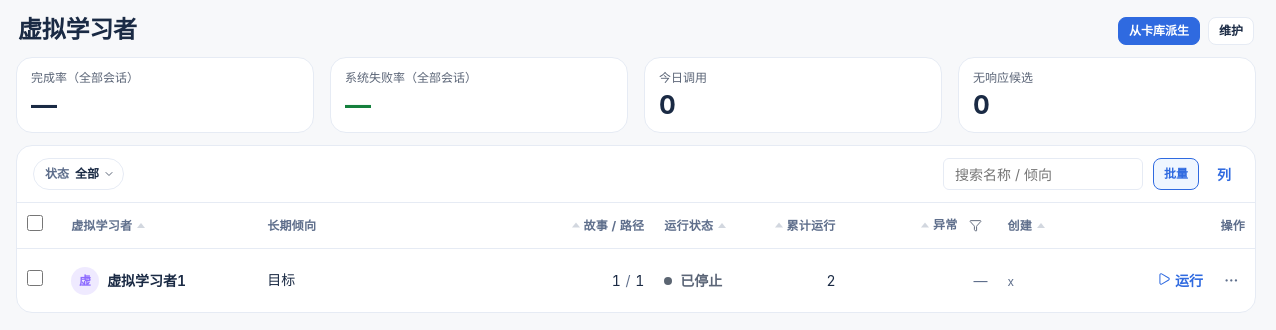
Test: VirtualLearners 批量管理与生命周期视图 › 容量与实验环境不再占版面：只在维护菜单里，默认不渲染
This screenshot has width=1276, height=330.
Expected: the text "容量与实验环境" is not shown
Click the button "维护": {"x": 1231, "y": 31} [1208,17,1254,45]
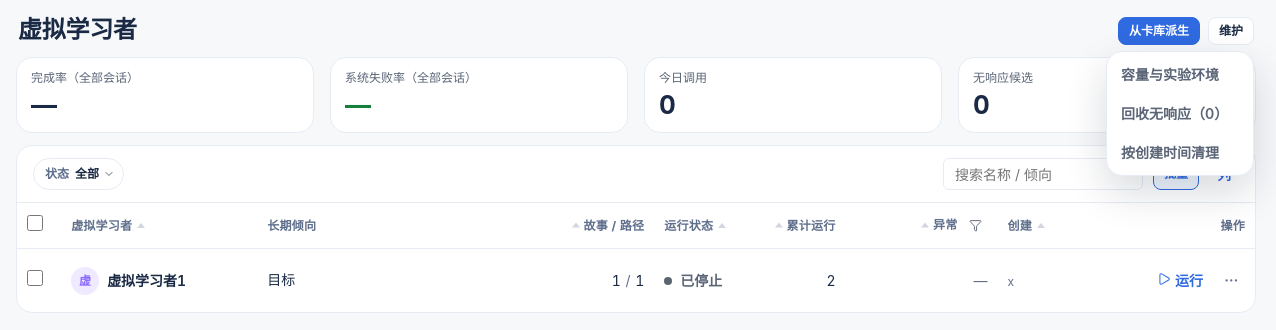
Result: the menu item with class "mk-menu__item" showing "容量与实验环境" is shown at [1111,56,1249,93]
